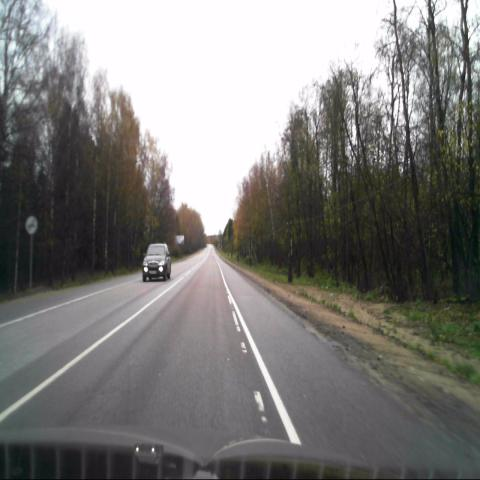3_21: (25, 214, 37, 235)
